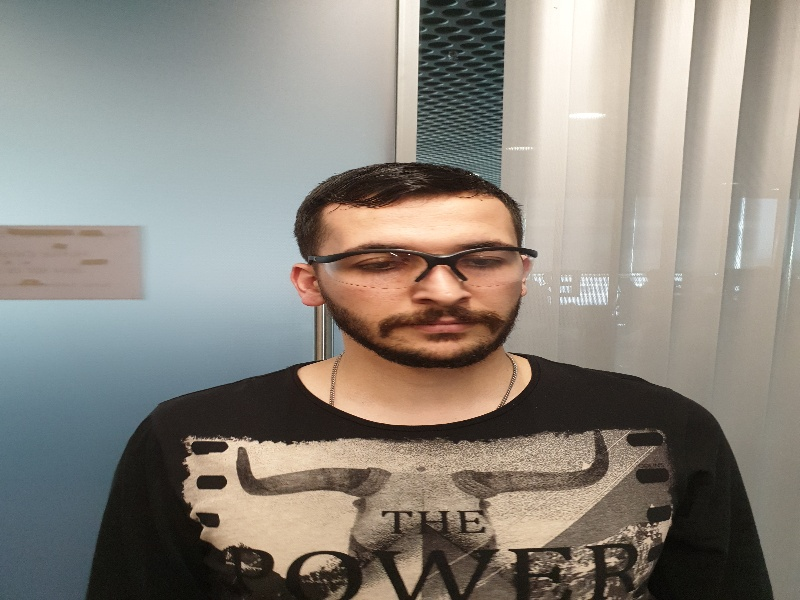Gozluk: (302, 245, 542, 282)
